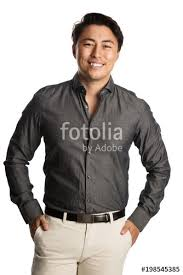F_belt: (39, 200, 131, 228)
